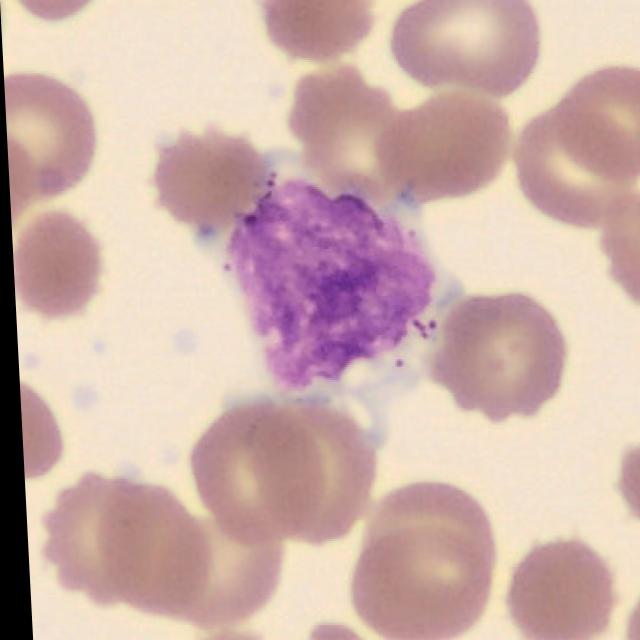Linfocito: (223, 174, 461, 449)
